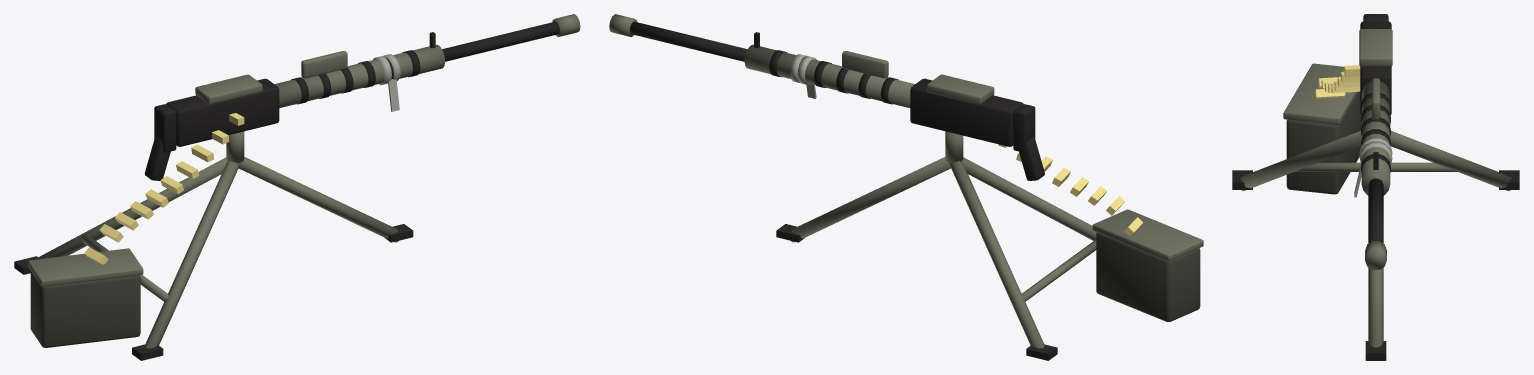
File: gun.glb
The picture shows the model from 3 angles, left to right: view 1: azimuth 30°, elevation 25°; view 2: azimuth 150°, elevation 25°; view 3: azimuth 270°, elevation 25°; orthographic projection. The views are drawn at different scales.
Visible parts, largest first — view 1: ammo_can, receiver, jacket, can_lid, leg_left, leg_front, leg_right, muzzle, feed_cover, back_plate, carry_handle, grip (+2 smaller); view 2: ammo_can, receiver, jacket, can_lid, leg_right, leg_front, leg_left, muzzle, feed_cover, back_plate, carry_handle, traverse (+2 smaller); view 3: ammo_can, can_lid, leg_left, leg_right, jacket, feed_cover, leg_front, traverse, muzzle, receiver, flash_hider, carry_handle (+4 smaller).
Boxes of the visible parts, x1,y1,x2,y2 form: ammo_can: [30, 271, 140, 347]; receiver: [166, 78, 279, 146]; jacket: [274, 44, 444, 108]; can_lid: [27, 248, 143, 286]; leg_left: [145, 161, 239, 348]; leg_front: [238, 157, 398, 242]; leg_right: [34, 157, 227, 259]; muzzle: [442, 21, 559, 61]; feed_cover: [195, 74, 262, 104]; back_plate: [154, 104, 176, 152]; carry_handle: [301, 51, 347, 78]; grip: [144, 136, 170, 180]; ammo_can: [1096, 232, 1200, 321]; receiver: [910, 78, 1023, 146]; jacket: [744, 44, 914, 107]; can_lid: [1092, 209, 1203, 261]; leg_right: [949, 161, 1044, 348]; leg_front: [791, 157, 950, 242]; leg_left: [962, 157, 1096, 240]; muzzle: [629, 21, 747, 61]; feed_cover: [927, 74, 994, 104]; back_plate: [1013, 104, 1035, 152]; carry_handle: [842, 51, 888, 78]; traverse: [1021, 239, 1096, 301]; ammo_can: [1286, 91, 1361, 194]; can_lid: [1283, 63, 1358, 124]; leg_left: [1240, 131, 1361, 191]; leg_right: [1390, 131, 1511, 191]; jacket: [1361, 81, 1390, 195]; feed_cover: [1359, 29, 1392, 66]; leg_front: [1368, 267, 1383, 347]; traverse: [1294, 162, 1457, 171]; muzzle: [1368, 178, 1383, 243]; receiver: [1360, 21, 1391, 115]; flash_hider: [1365, 241, 1386, 269]; carry_handle: [1371, 78, 1380, 119].
Size of the model in its own units: 1.77 by 0.61 by 0.69.
